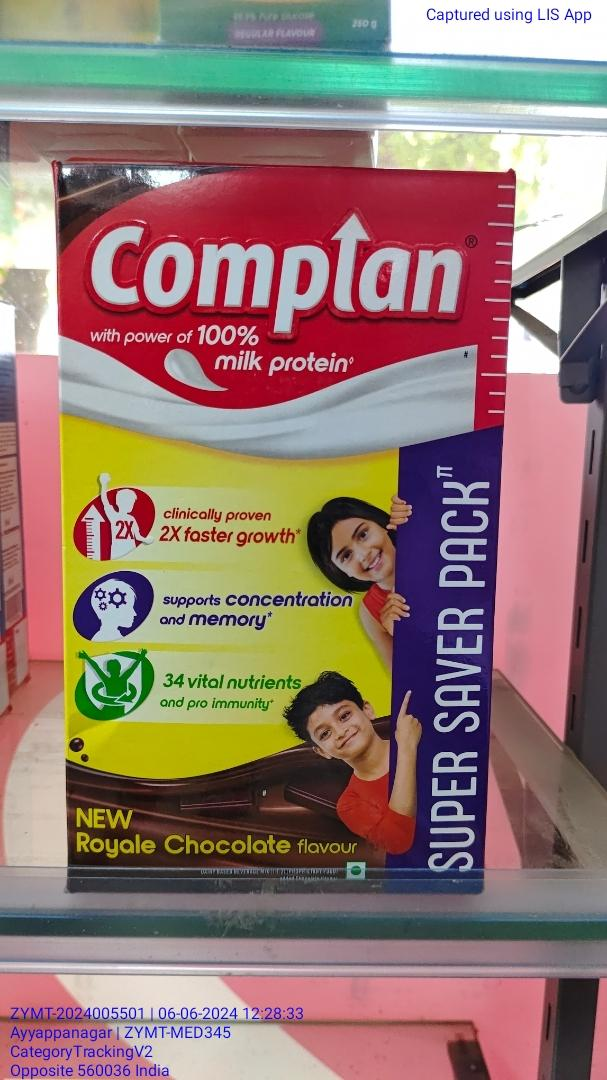COMPLAN_CHOCOLATE_1_KG_PACK: (46, 162, 499, 895)
